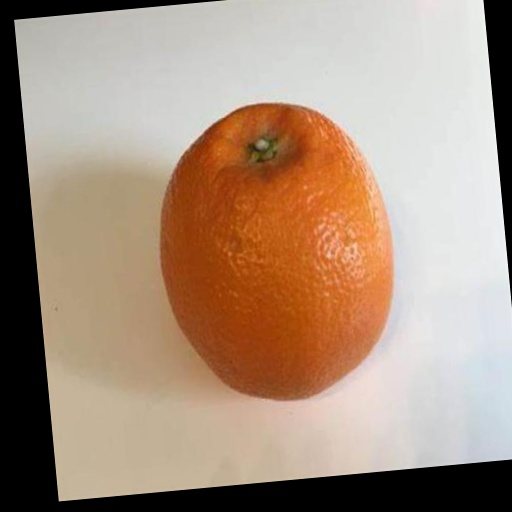fruit: (161, 104, 393, 399)
